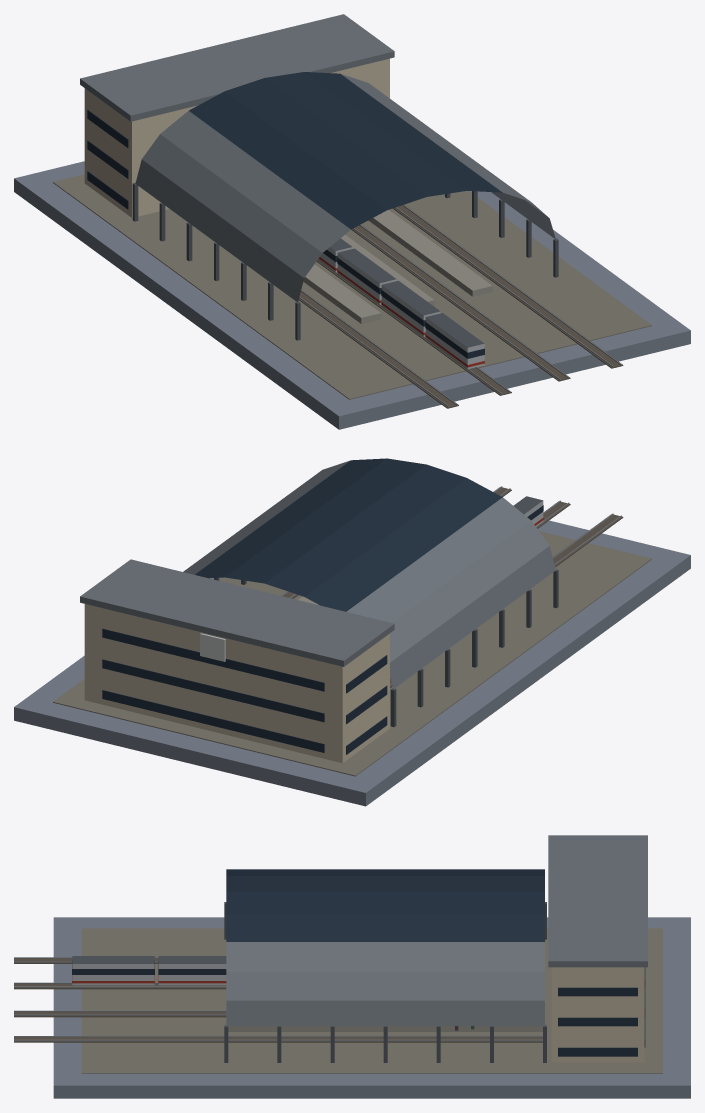
The model's file is train_station.glb.
3 views of the same model, one above another, from view 1: azimuth 30°, elevation 25°; view 2: azimuth 150°, elevation 25°; view 3: azimuth 270°, elevation 25° (orthographic). The views are drawn at different scales.
Parts seen in each view (by area): view 1: train_station; view 2: train_station; view 3: train_station.
Part boxes in pixels (bbox=[...]): train_station: bbox=[14, 14, 690, 429]; train_station: bbox=[14, 458, 690, 806]; train_station: bbox=[14, 835, 690, 1098].
Size of the model in its own units: 60 by 20.45 by 102.
